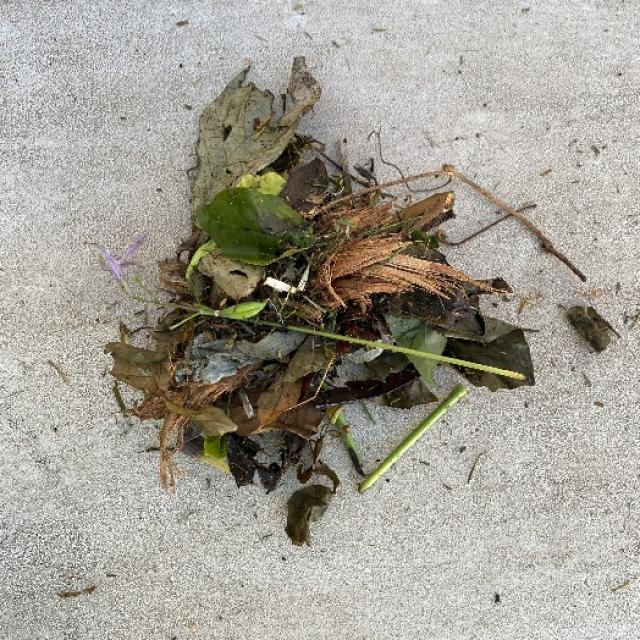organik: (123, 59, 516, 522)
